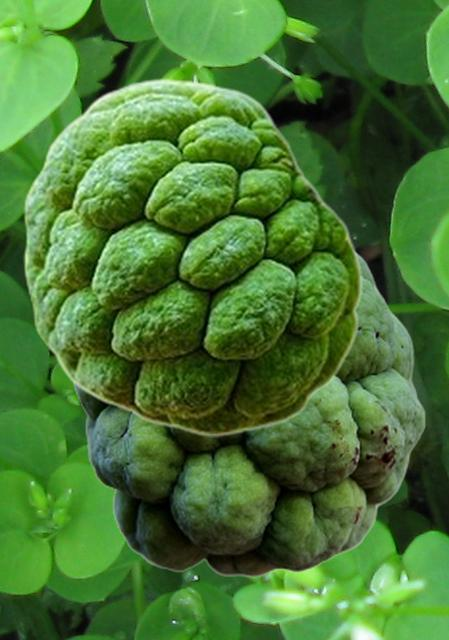atis: (23, 77, 362, 436), (73, 249, 425, 578)
